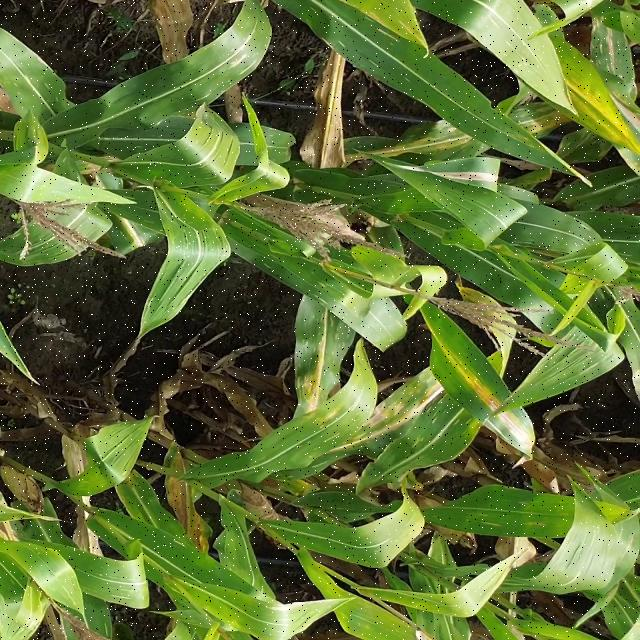gray-leaf-spot: (293, 318, 358, 412), (364, 373, 427, 436), (577, 21, 634, 84), (482, 499, 569, 537), (78, 567, 154, 609), (216, 50, 264, 88)
northern-leaf-blight: (546, 66, 628, 156)
